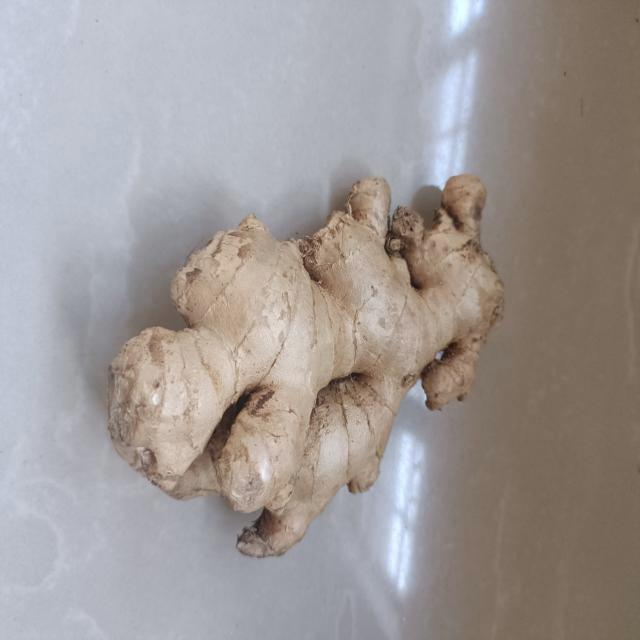ginger: (105, 167, 508, 562)
